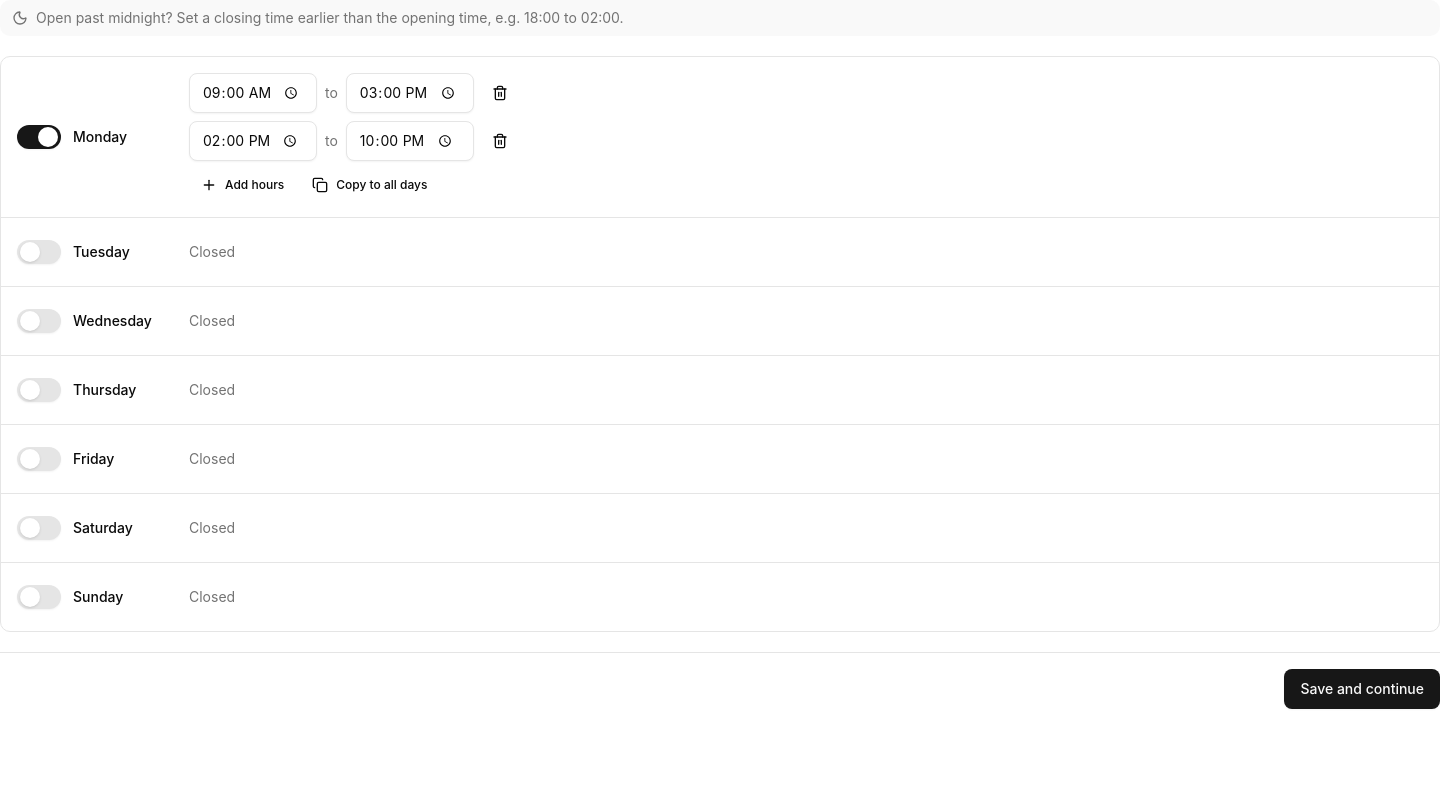
Test: OpeningHoursForm › rejects overlapping periods on the same day
Click the button "Save and continue": (1362, 689) [1284, 669, 1440, 709]
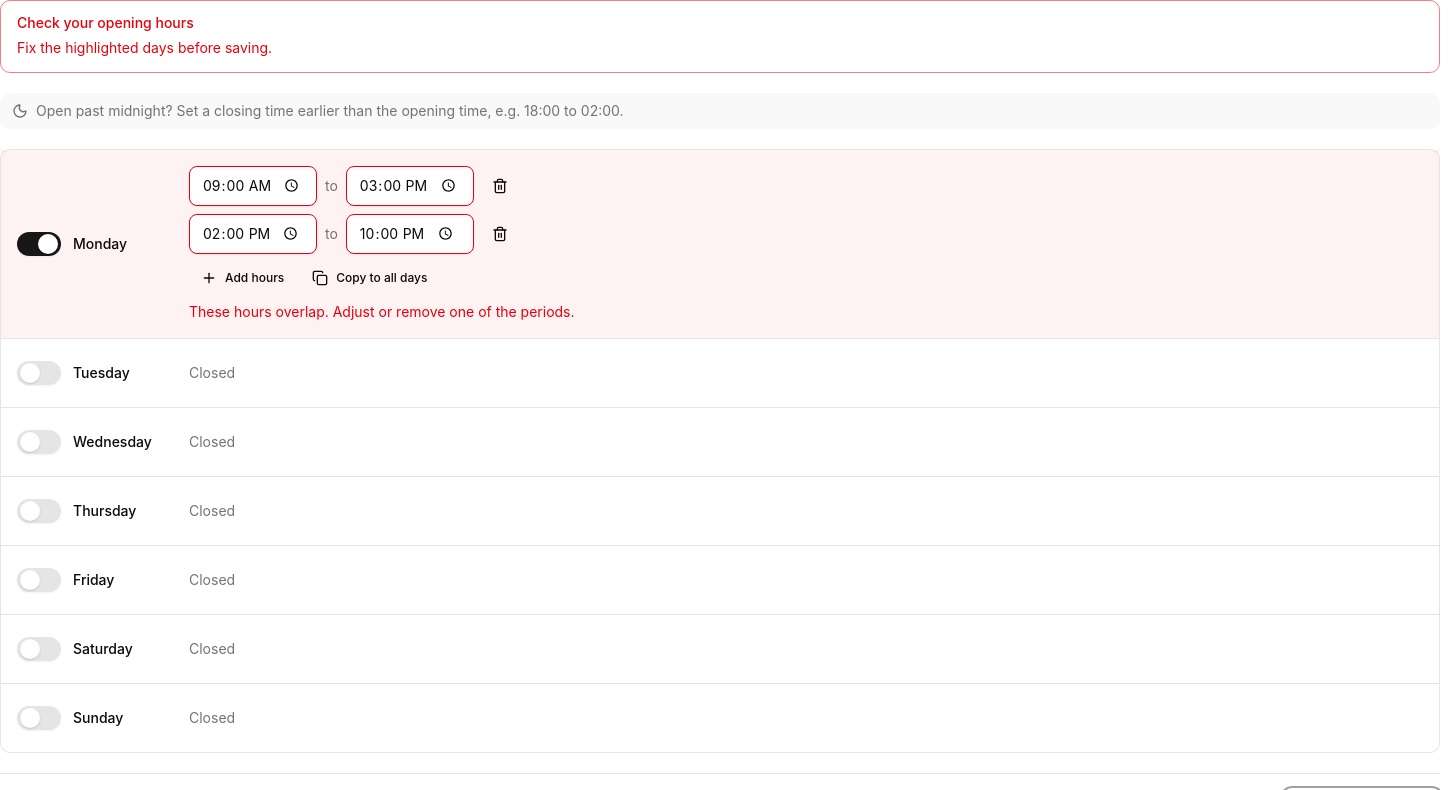
Now the text "These hours overlap. Adjust or remove one of the periods." is shown, box [189, 303, 574, 320]
